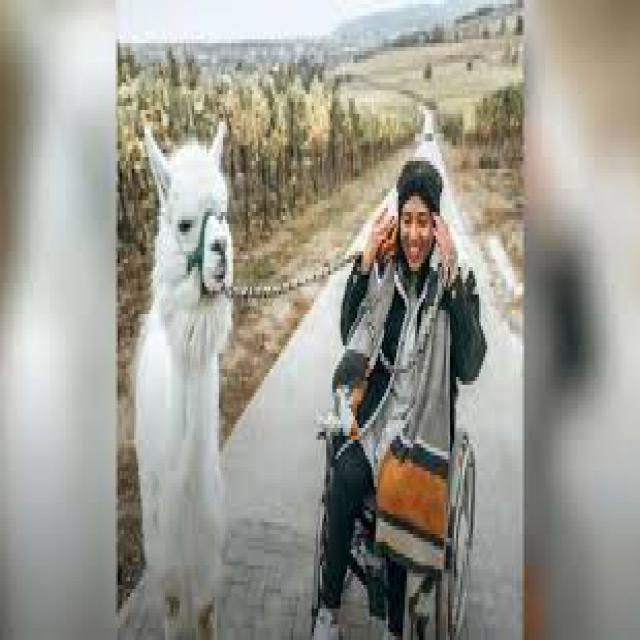wheelchairs: (301, 310, 481, 636)
